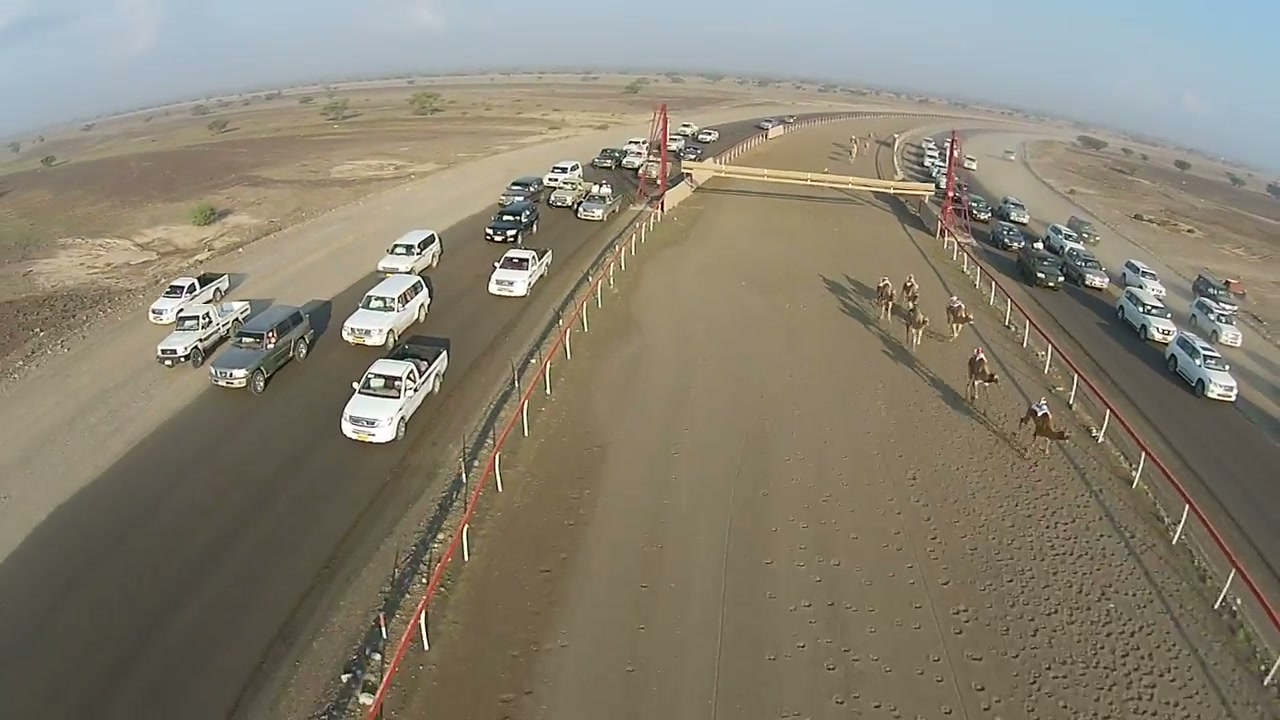animal_footprint: (959, 411, 1202, 719), (799, 449, 959, 719)
